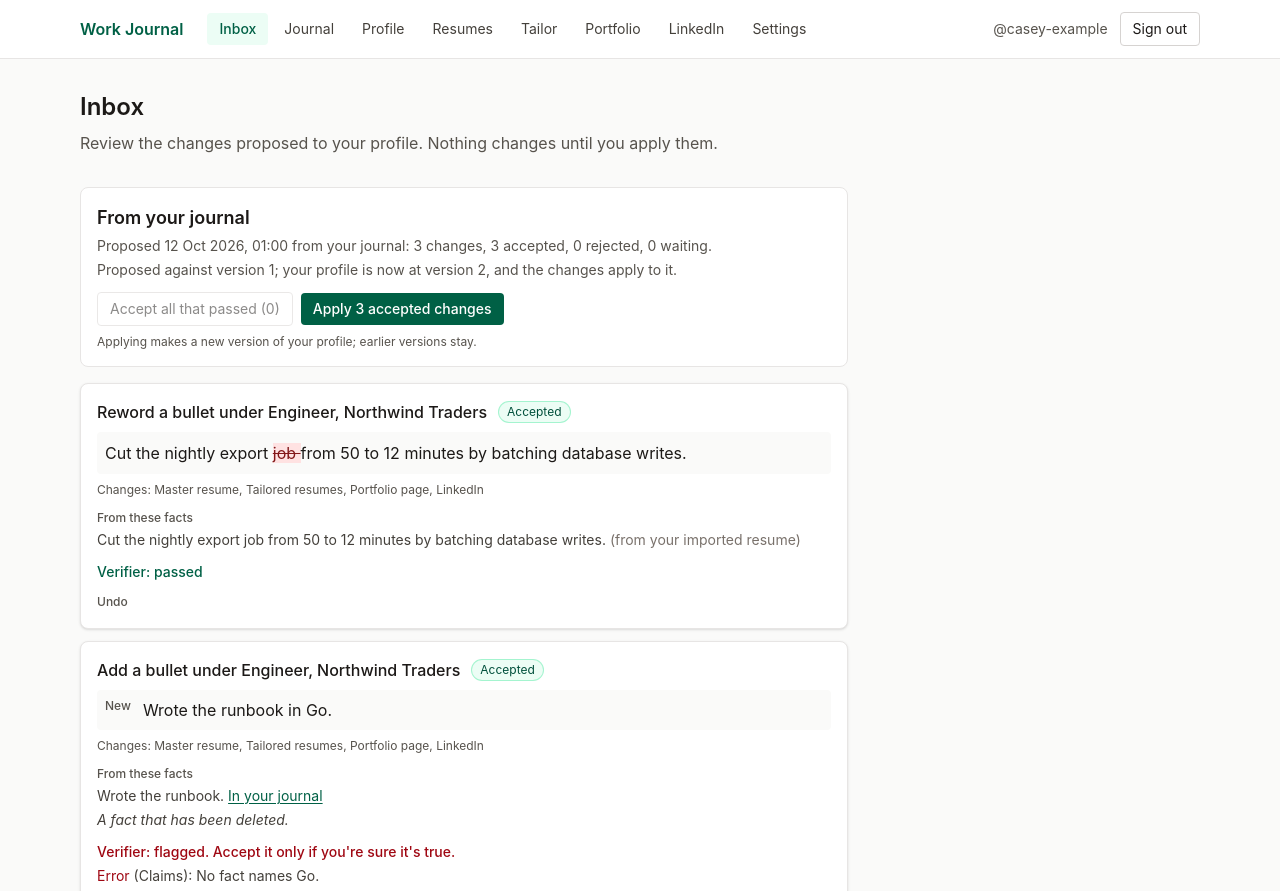
the inbox › says why applying didn't work
The width and height of the screenshot is (1280, 891).
Click the button "Apply 3 accepted changes" at (402, 309), box [301,293,504,325]
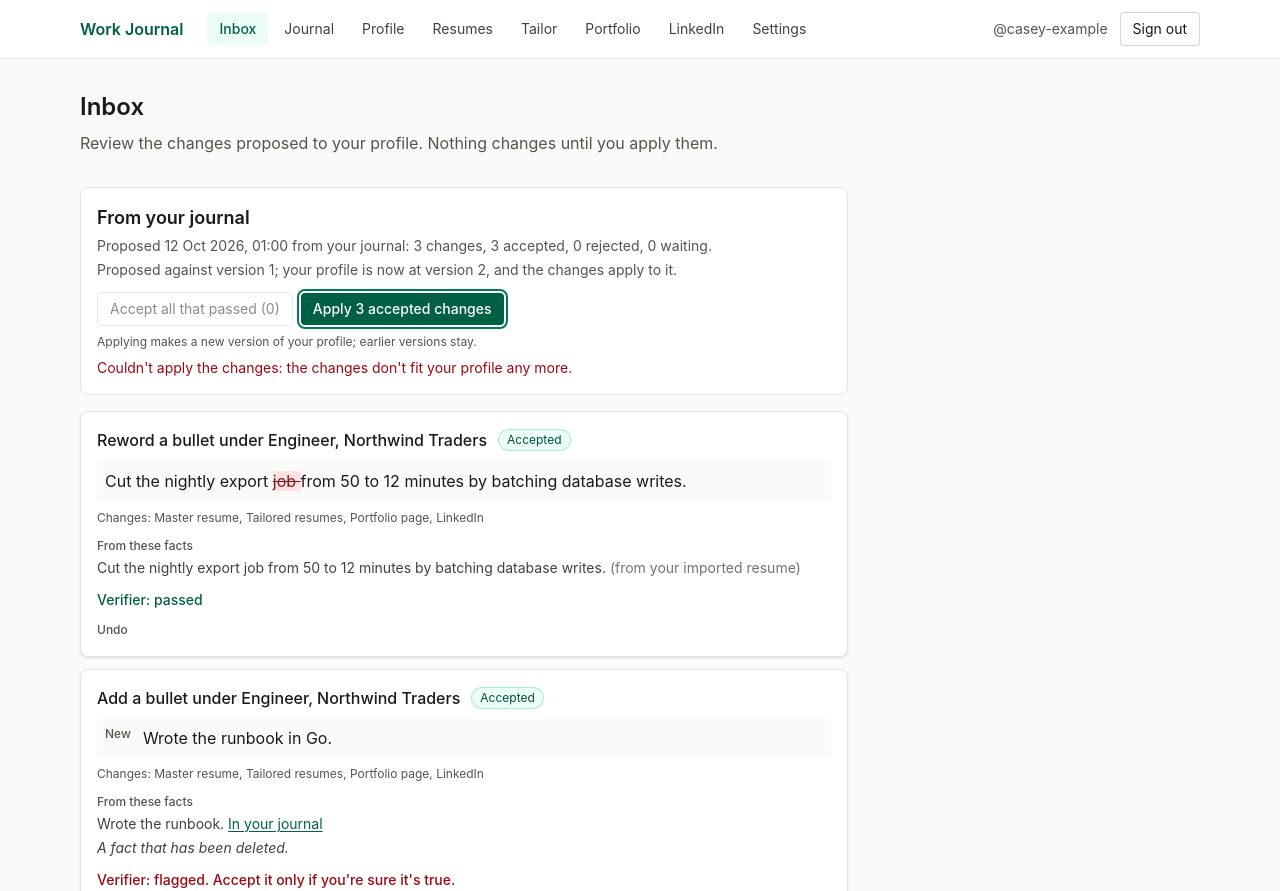
expect the message reads "Couldn't apply the changes: the changes don't fit your profile any more.": met, box [97,359,572,376]
